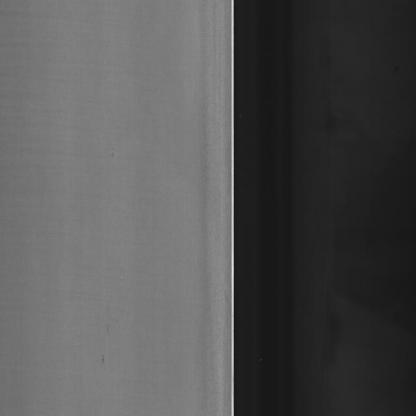inclusion: (99, 349, 106, 367)
